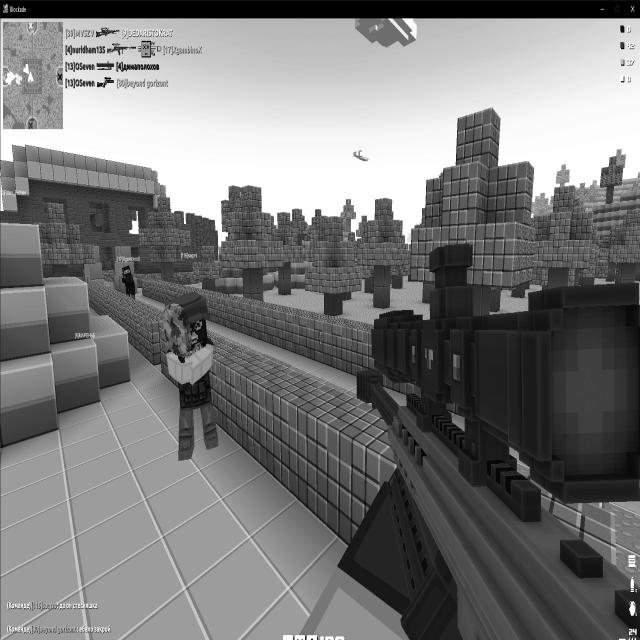Head: (168, 292, 213, 350), (122, 264, 132, 277)
Player: (162, 290, 219, 461), (121, 264, 136, 298)
